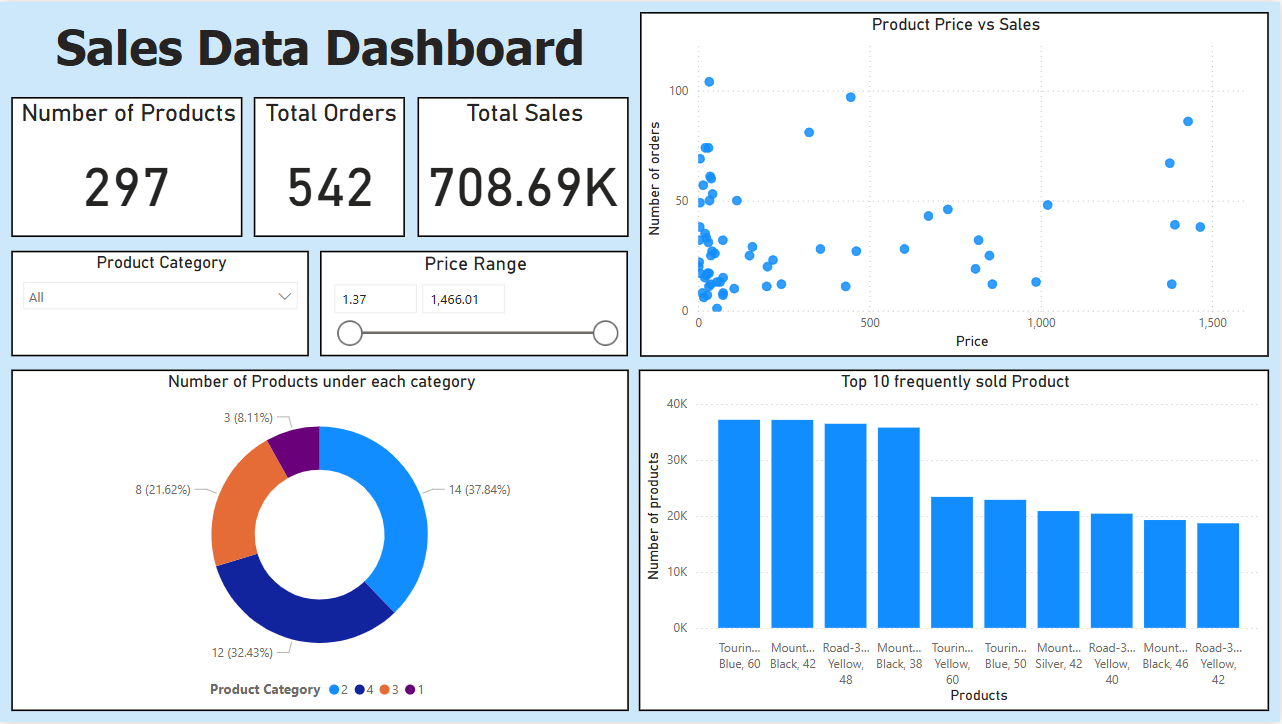

This screenshot's page, from the dashboard's own definition file:
{"tool":"powerbi","page":{"name":"Dashboard","canvas":[1280,720],"ordinal":0},"visuals":[{"type":"card","title":"Number of Products","fields":{"Values":["CountNonNull(Product.product_id)"]},"box":[11.2,95,231.2,140],"z":0},{"type":"card","title":"Total Sales","fields":{"Values":["Sum(SalesOrderDetail.line_total)"]},"box":[417.6,95.3,211.2,140],"z":1000},{"type":"clusteredColumnChart","title":"Top 10 frequently sold Products","fields":{"Y":["Sum(SalesOrderDetail.line_total)"],"Category":["Product.name"]},"box":[638.8,367.6,630,341.8],"z":2000},{"type":"card","title":"Total Orders","fields":{"Values":["CountNonNull(SalesOrderDetail.sales_order_id)"]},"box":[253.8,95,151.2,140],"z":3000},{"type":"donutChart","title":"Number of Products under each category","fields":{"Category":["ProductCategory.parent_product_category_id"],"Y":["CountNonNull(ProductCategory.product_category_id)"]},"box":[10.7,367.9,617.9,341.7],"z":4000},{"type":"scatterChart","title":"Product Price vs Sales","fields":{"Y":["Sum(SalesOrderDetail.order_qty)"],"X":["SalesOrderDetail.unit_price"]},"box":[640,10,628.8,345],"z":5000},{"type":"textbox","box":[10.7,9.5,617.9,72.6],"z":6000},{"type":"slicer","title":"Product Category","fields":{"Values":["ProductCategory.parent_product_category_id"]},"box":[11.2,248.8,297.6,105.9],"z":7000},{"type":"slicer","title":"Price Range","fields":{"Values":["SalesOrderDetail.unit_price"]},"box":[320.2,248.8,308.3,106],"z":8000}]}

Visuals, with their boxes in screenshot pixels (x1, y1, x2, y2), scaled from the page's 1280x720 canvas onto the 1282x724 screenshot:
"Number of Products" card: locate(11, 96, 243, 236)
"Total Sales" card: locate(418, 96, 630, 237)
"Top 10 frequently sold Products" clusteredColumnChart: locate(640, 370, 1271, 713)
"Total Orders" card: locate(254, 96, 406, 236)
"Number of Products under each category" donutChart: locate(11, 370, 630, 714)
"Product Price vs Sales" scatterChart: locate(641, 10, 1271, 357)
textbox: locate(11, 10, 630, 83)
"Product Category" slicer: locate(11, 250, 309, 357)
"Price Range" slicer: locate(321, 250, 629, 357)
